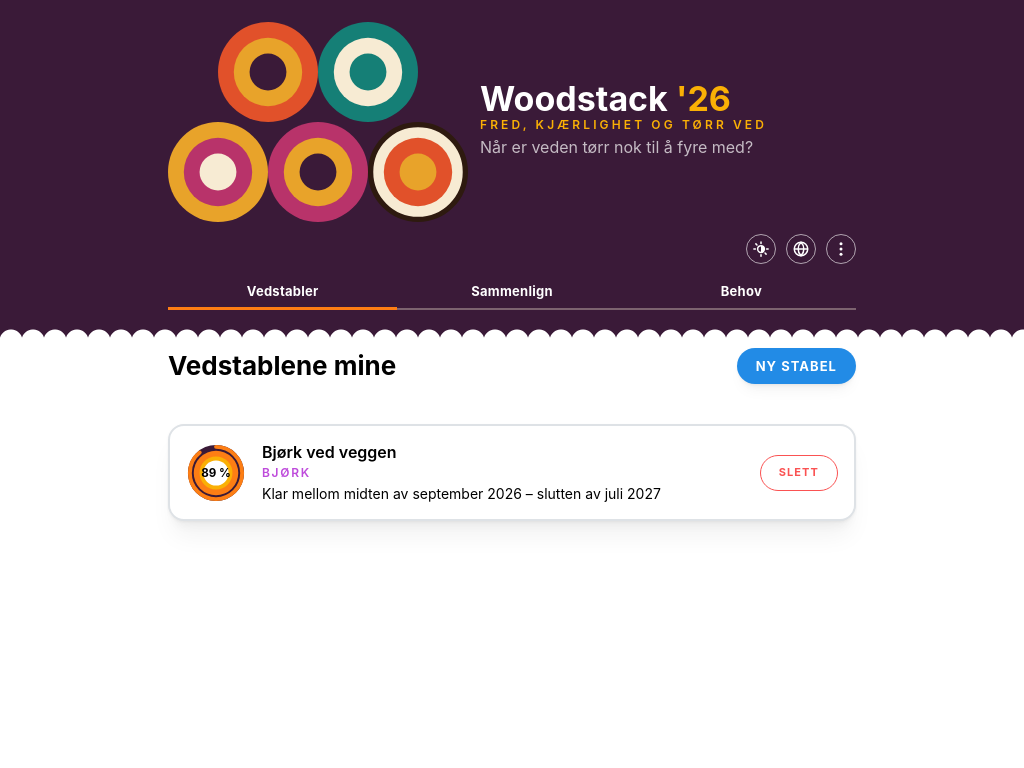
Test case: App and the comparison screen › opens the comparison screen from the front-page tabs
Click the tab "Sammenlign".
click(512, 293)  # box [397, 276, 627, 310]
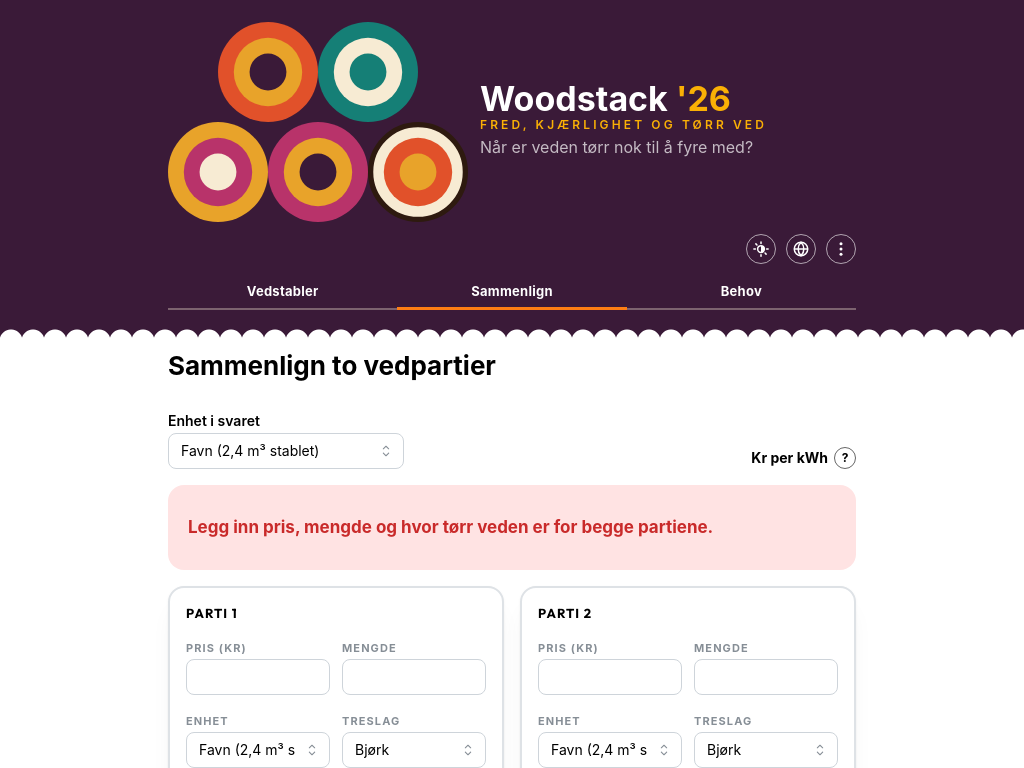
Expected: the heading "Sammenlign to vedpartier" is shown, [168, 348, 496, 384]
Expected: the button "Bjørk ved veggen" is gone
